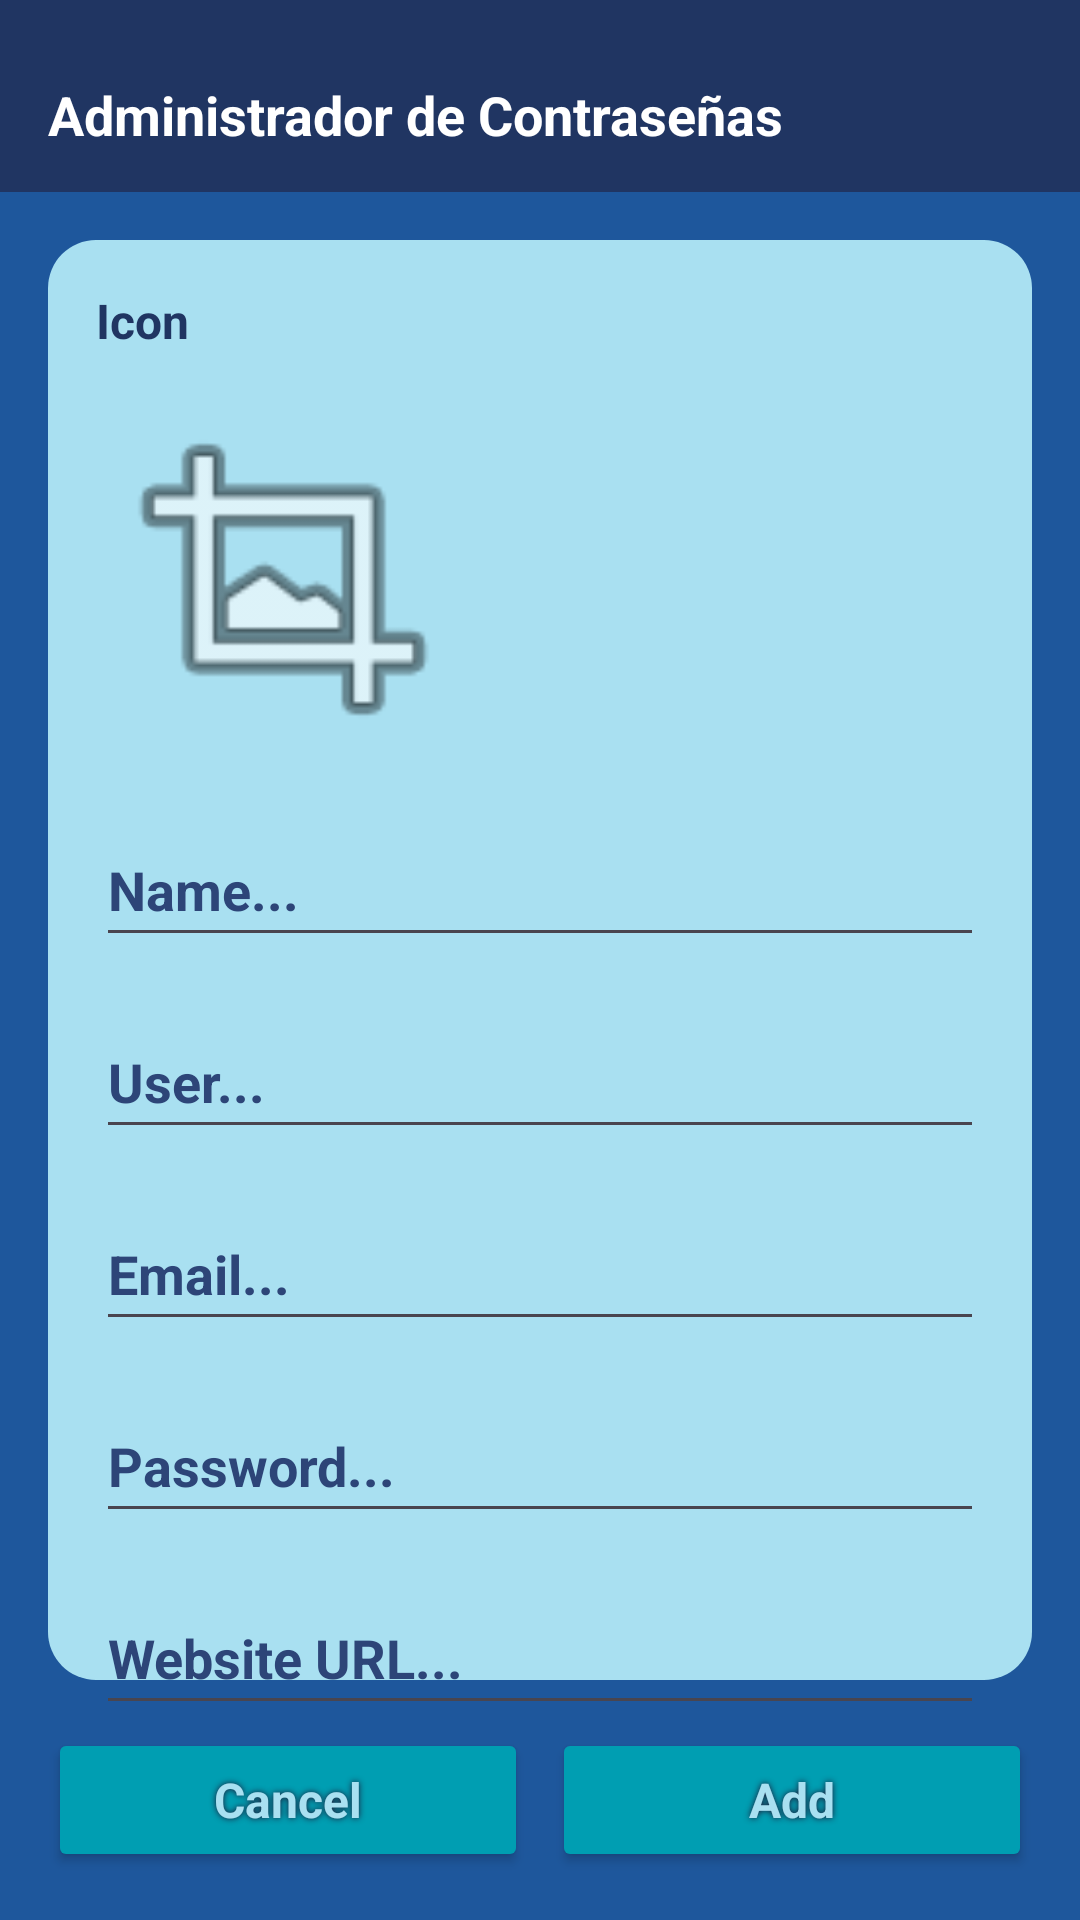

Where to tap for icons on this 1080px x 1920px app screen, as (x=x, y=y):
crop: (x=283, y=579)
